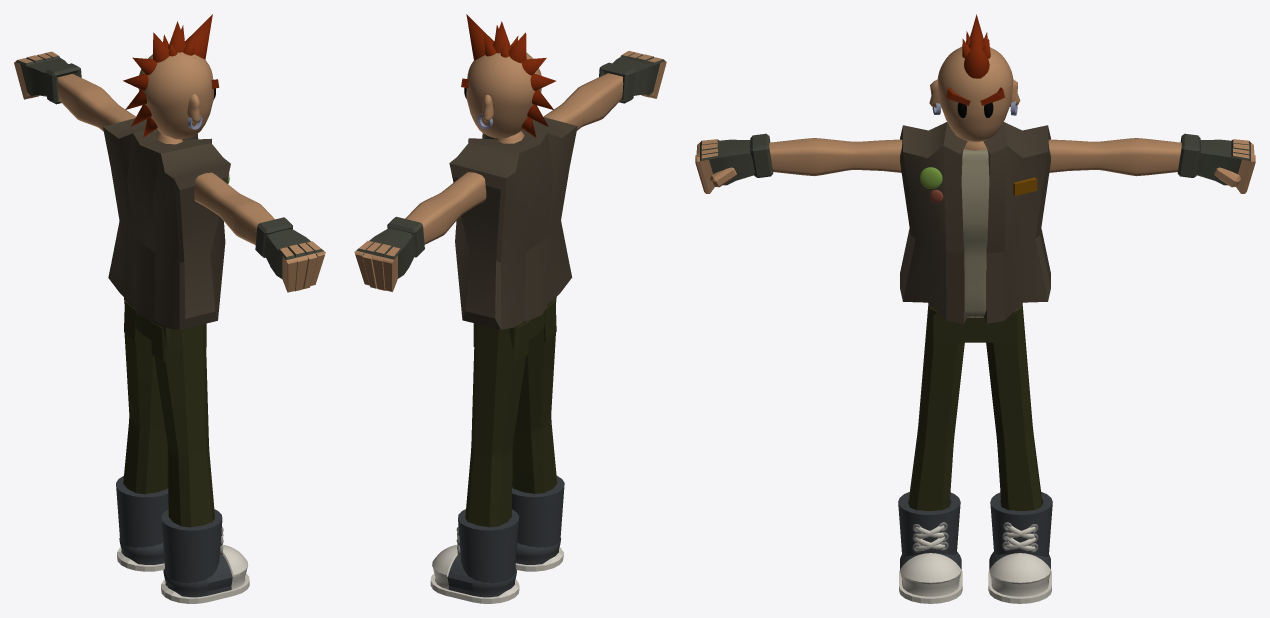
File: SKINNY red hair.fbx
The picture shows the model from 3 angles, left to right: view 1: azimuth 30°, elevation 25°; view 2: azimuth 150°, elevation 25°; view 3: azimuth 270°, elevation 25°; orthographic projection.
Visible parts, largest first — view 1: polySurface75; view 2: polySurface75; view 3: polySurface75.
Boxes of the visible parts, left/top/right/bottom form: polySurface75: left=14, top=14, right=325, bottom=603; polySurface75: left=354, top=14, right=666, bottom=603; polySurface75: left=695, top=14, right=1255, bottom=603.
Bounding box in the file's own units: 0.0344 × 0.1805 × 0.1637.
